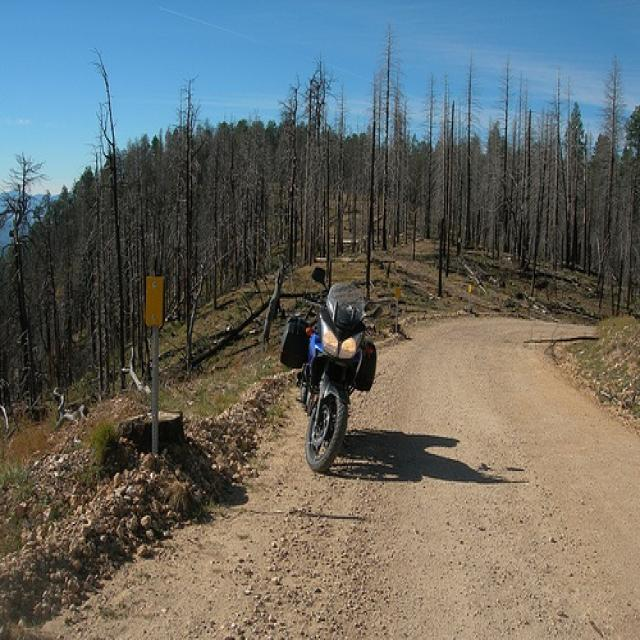motorbike: (280, 261, 383, 476)
